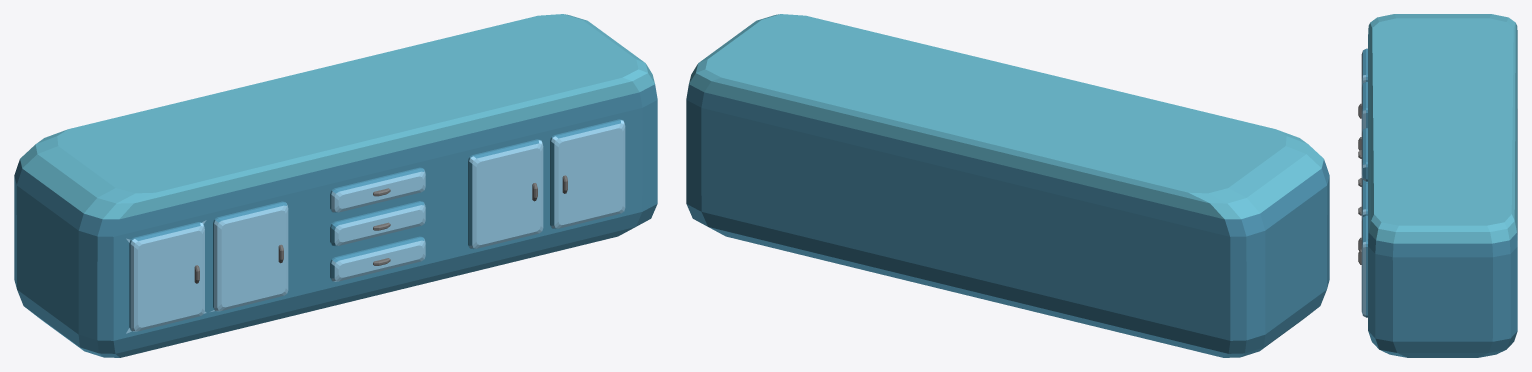
The model's file is KitchenCounter.fbx.
3 views of the same model, side by side, from view 1: azimuth 30°, elevation 25°; view 2: azimuth 150°, elevation 25°; view 3: azimuth 270°, elevation 25° (orthographic). The views are drawn at different scales.
Visible parts, largest first — view 1: KitchenNoSink; view 2: KitchenNoSink; view 3: KitchenNoSink.
Boxes of the visible parts, bbox=[...] form: KitchenNoSink: bbox=[14, 14, 657, 357]; KitchenNoSink: bbox=[686, 14, 1329, 357]; KitchenNoSink: bbox=[1358, 14, 1517, 357].
Bounding box in the file's own units: 2.6 × 0.719 × 0.7665.
1 material, 1 textured.
